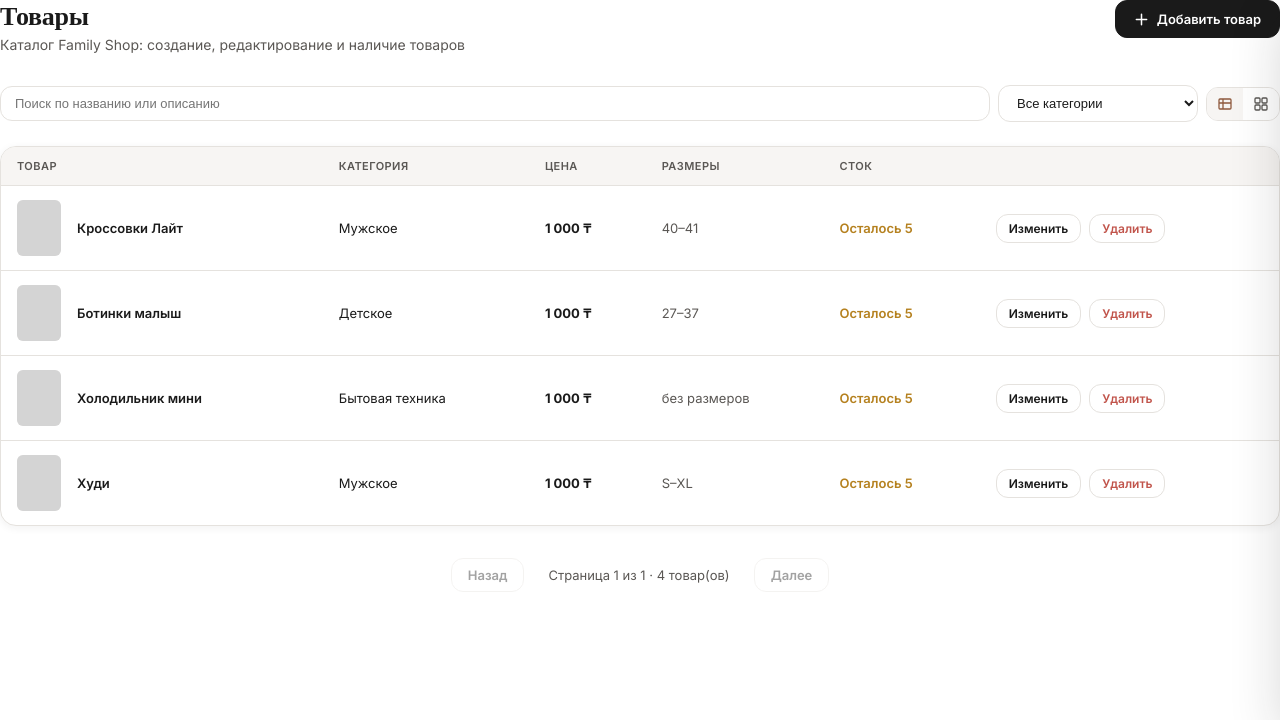
Test: product form - sizes › changing the category clears a type it does not offer and the grid with it
The image size is (1280, 720).
Step 1. Click the button "Изменить" in the row of "Кроссовки Лайт" → (1038, 228), box [996, 214, 1081, 242]
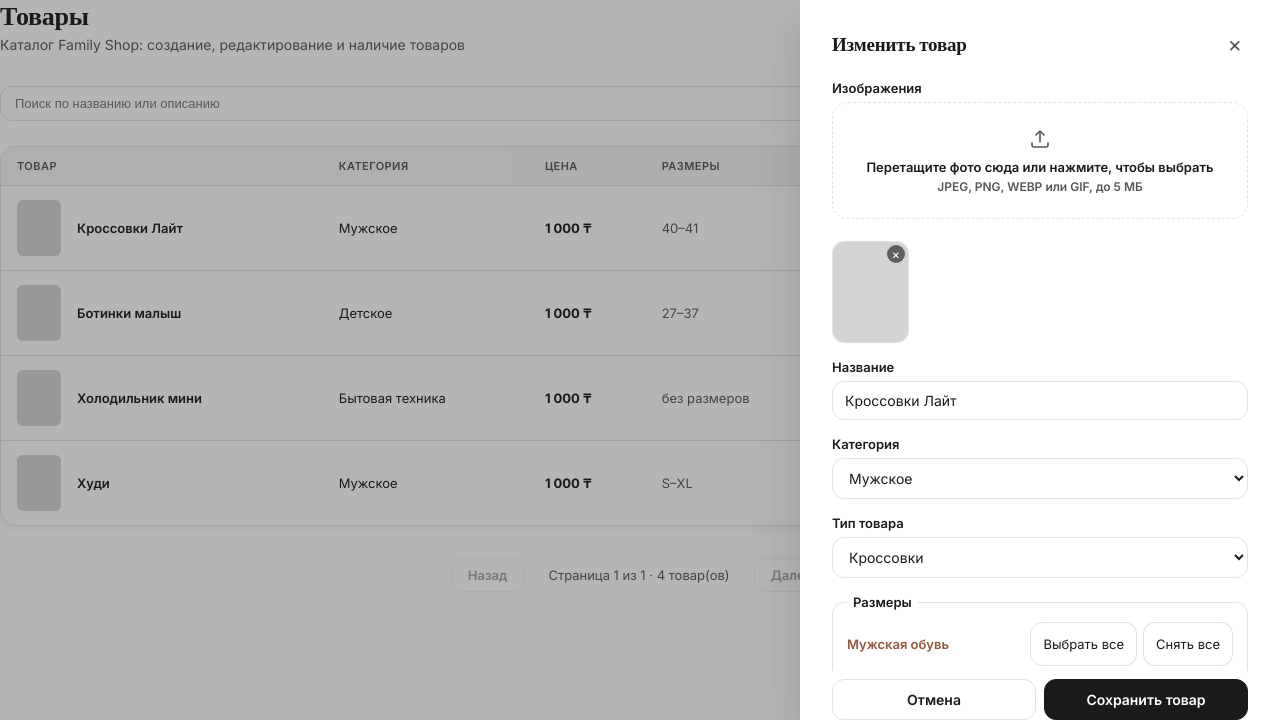
Step 2. Select "Бытовая техника" in the dropdown labelled "Категория" → (1040, 479), box [832, 458, 1248, 499]
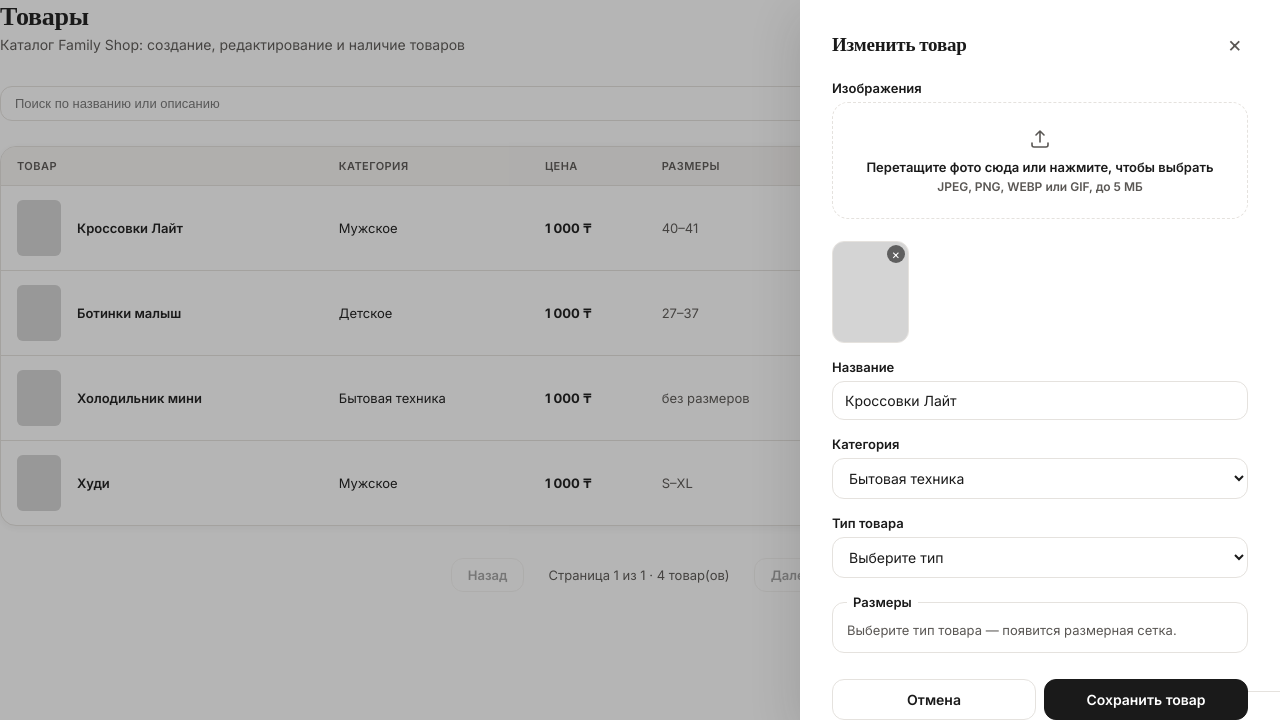
Check: the dropdown labelled "Тип товара" shows "Выберите тип", box [832, 537, 1248, 578]
Check: the text "Выберите тип товара — появится размерная сетка." is shown, box [847, 622, 1233, 638]
